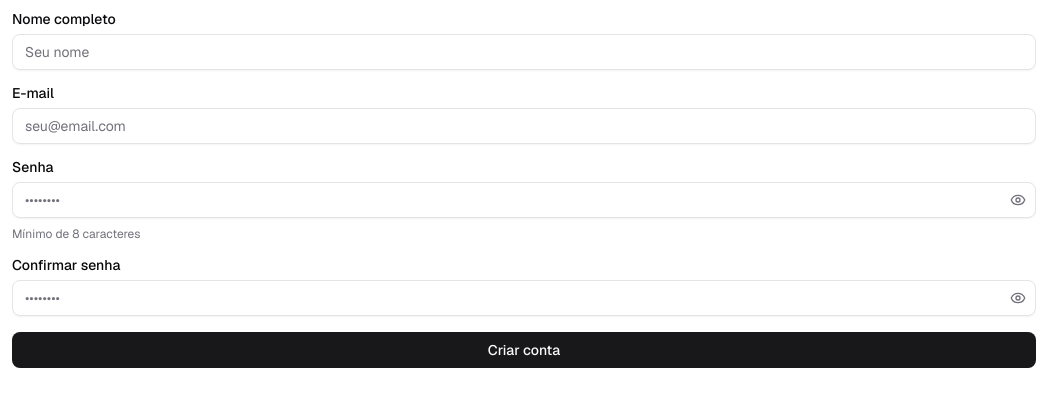
Test: RegisterForm › Validação de Formulário › should show error when passwords do not match
In the field labelled "Nome completo": [524, 52] box x1=12 y1=34 x2=1036 y2=70, type "John Doe"
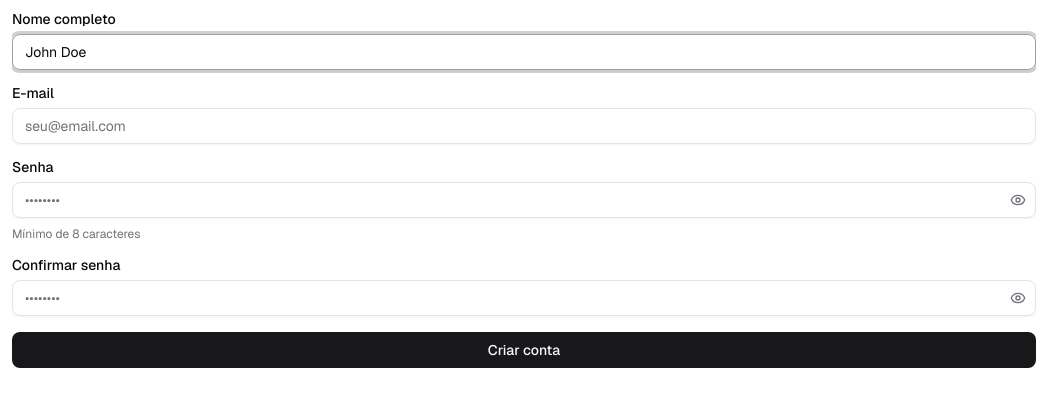
In the field labelled "E-mail": [524, 126] box x1=12 y1=108 x2=1036 y2=144, type "john@example.com"
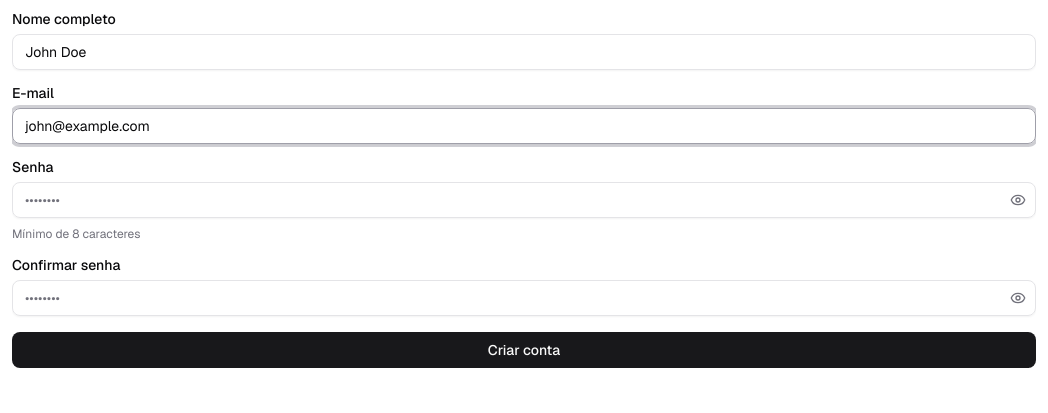
In the password field labelled "Senha": [524, 200] box x1=12 y1=182 x2=1036 y2=218, type "password123"
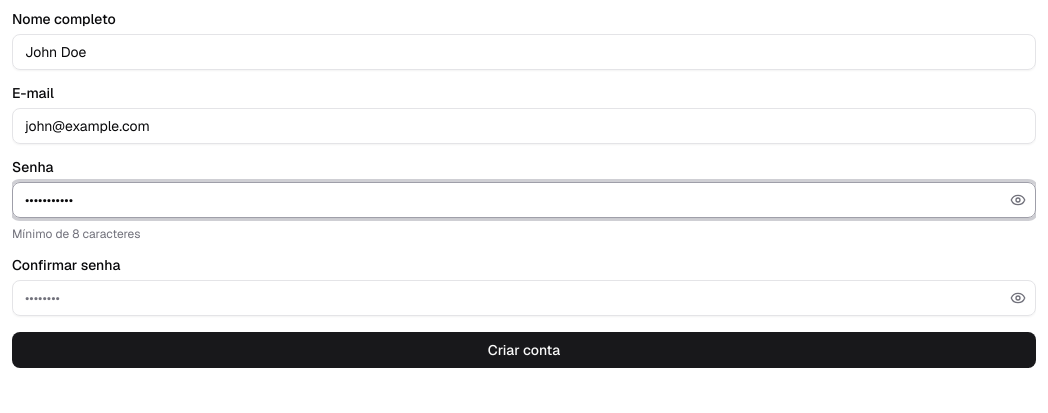
In the password field labelled "Confirmar senha": [524, 298] box x1=12 y1=280 x2=1036 y2=316, type "different123"
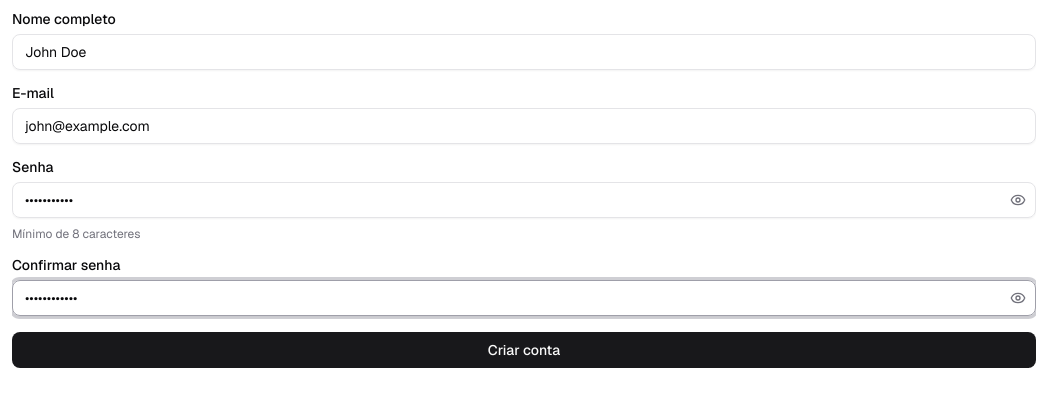
Click the button "Criar conta": [524, 350] box x1=12 y1=332 x2=1036 y2=368
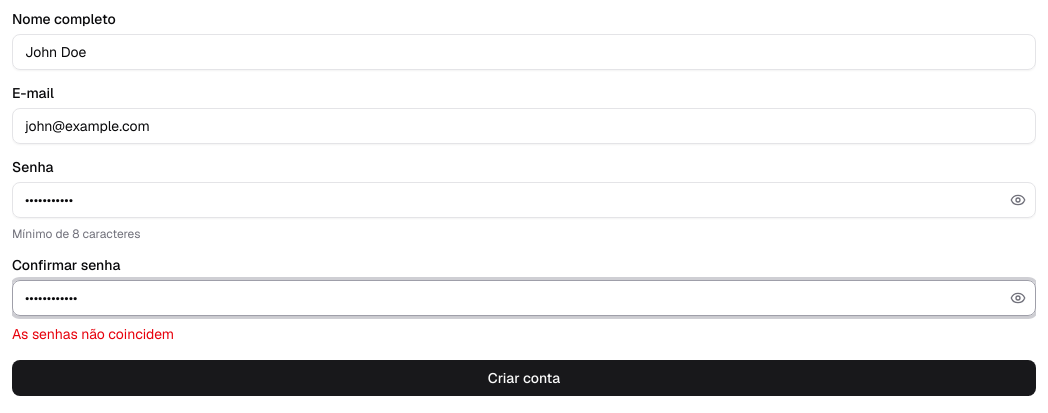
Expected: the text "As senhas não coincidem" is shown, x1=12 y1=325 x2=174 y2=343
